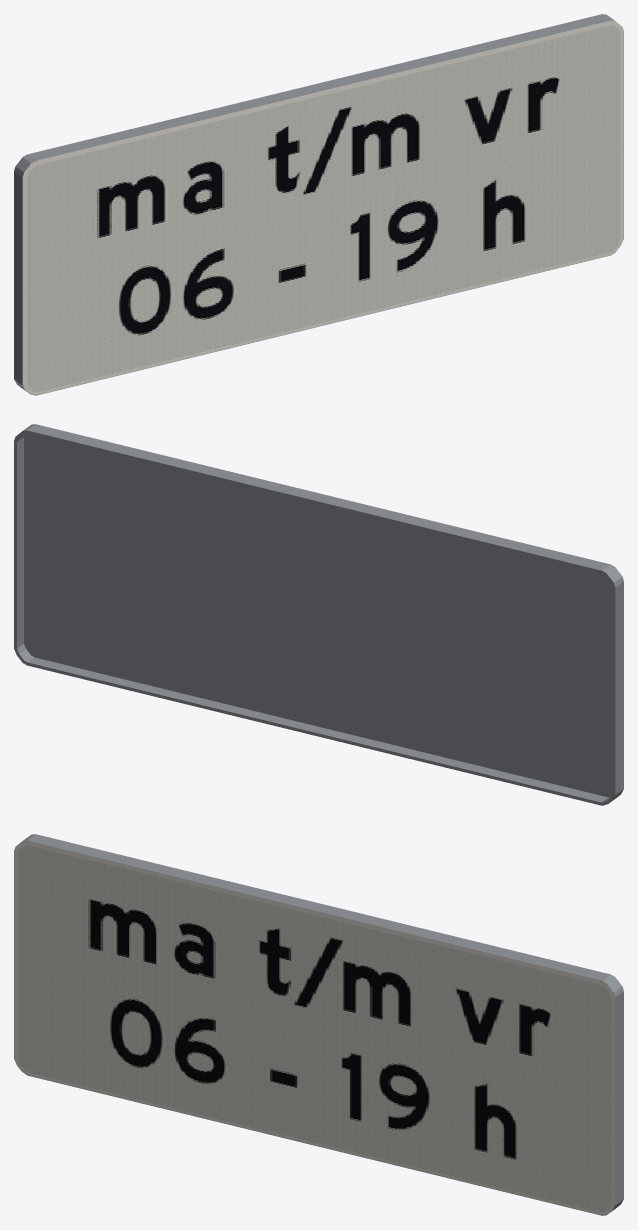
The picture shows the model from 3 angles, top to bottom: view 1: azimuth 30°, elevation 25°; view 2: azimuth 150°, elevation 25°; view 3: azimuth 330°, elevation 25°; orthographic projection.
Visible parts, largest first — view 1: cat_e54d775c5cd82ed8; view 2: cat_e54d775c5cd82ed8; view 3: cat_e54d775c5cd82ed8.
Boxes of the visible parts, x1,y1,x2,y2 form: cat_e54d775c5cd82ed8: (14,14,623,395); cat_e54d775c5cd82ed8: (14,424,623,805); cat_e54d775c5cd82ed8: (14,834,623,1215).
Bounding box in the file's own units: 0.6 × 0.015 × 0.2241.
Materials: 2 (1 with a texture image).
